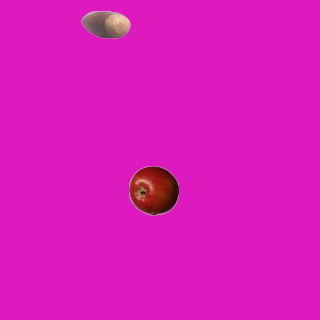Apple Braeburn: (128, 165, 178, 215)
Hazelnut: (80, 0, 130, 49)
